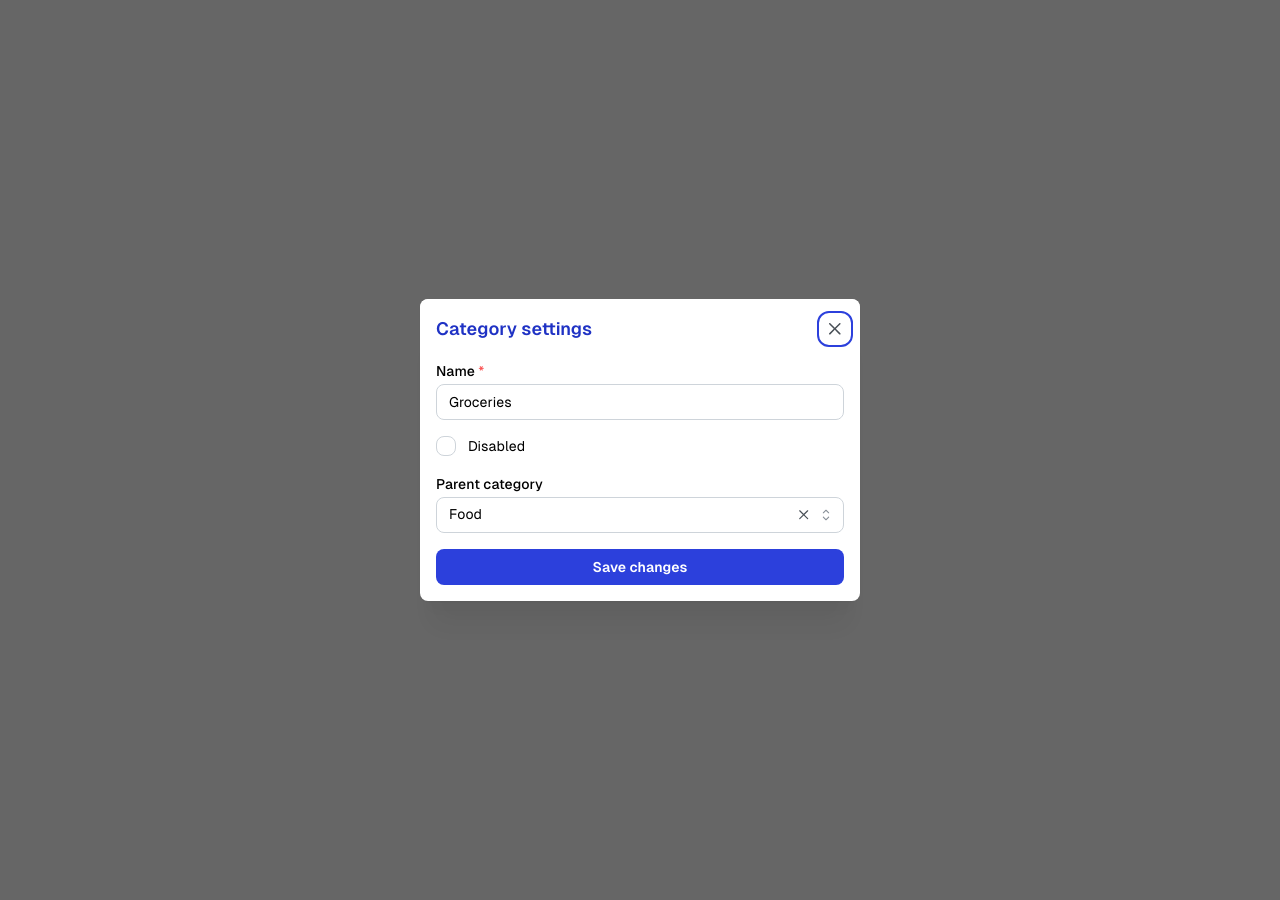
EditCategoryModal › shows the server error and stays open when saving fails
Click the button "Save changes" at (640, 567), box [436,549,844,585]
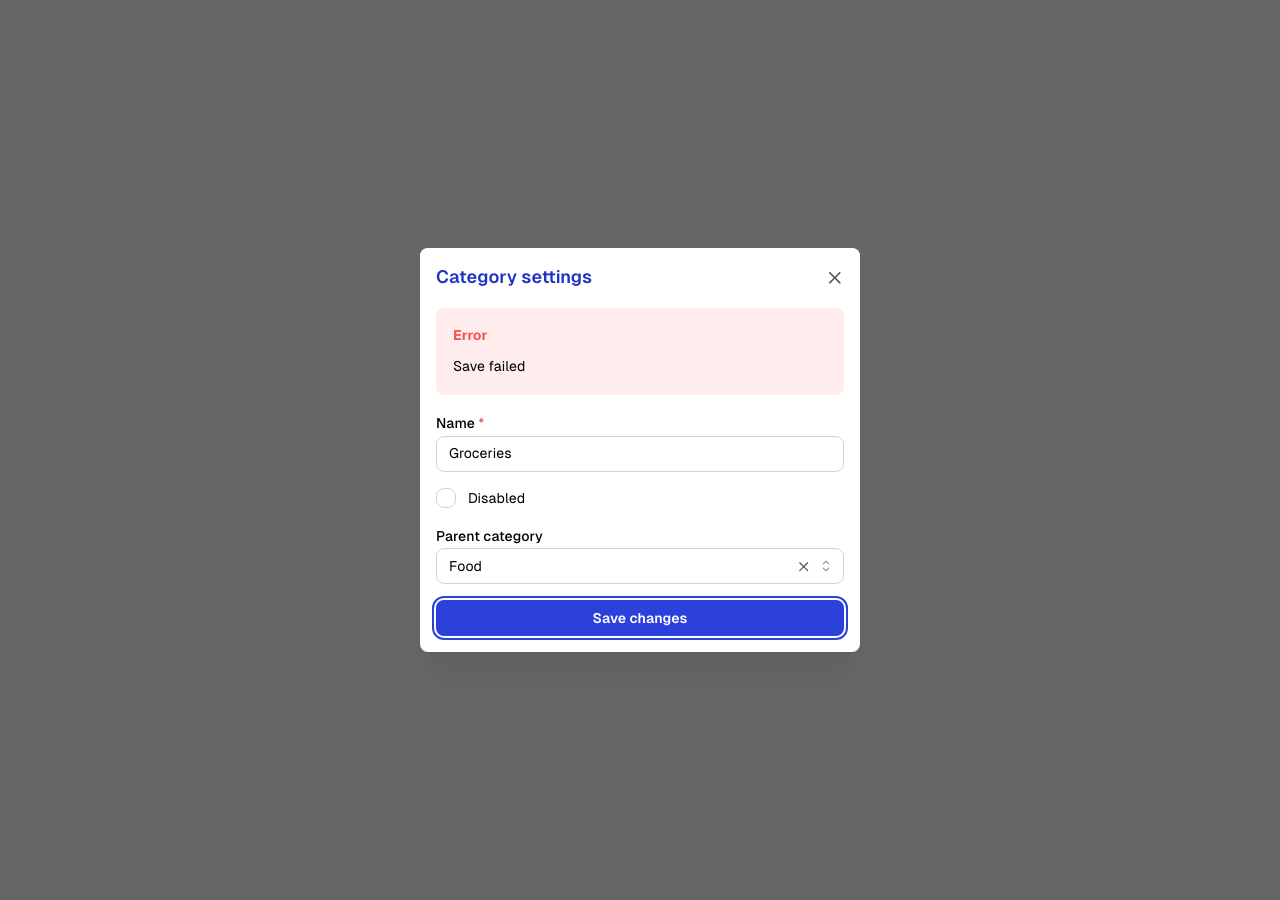
Result: the text "Save failed" is shown at [453,358,525,374]
